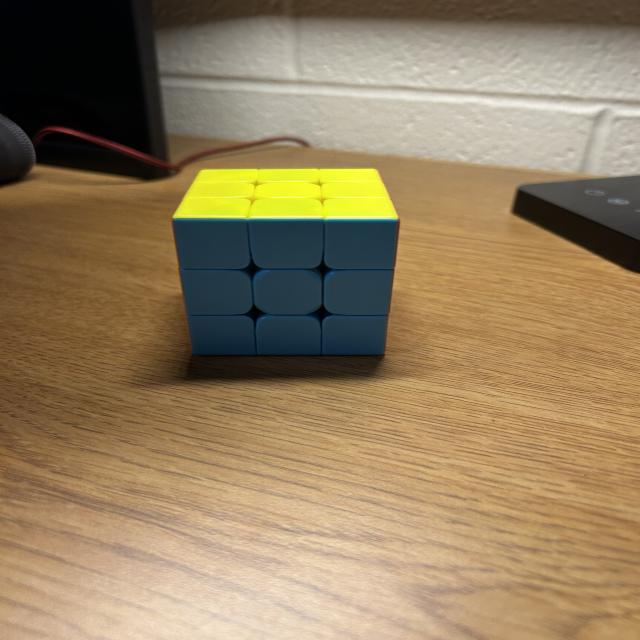Rubiks Cube: (171, 168, 400, 354)
